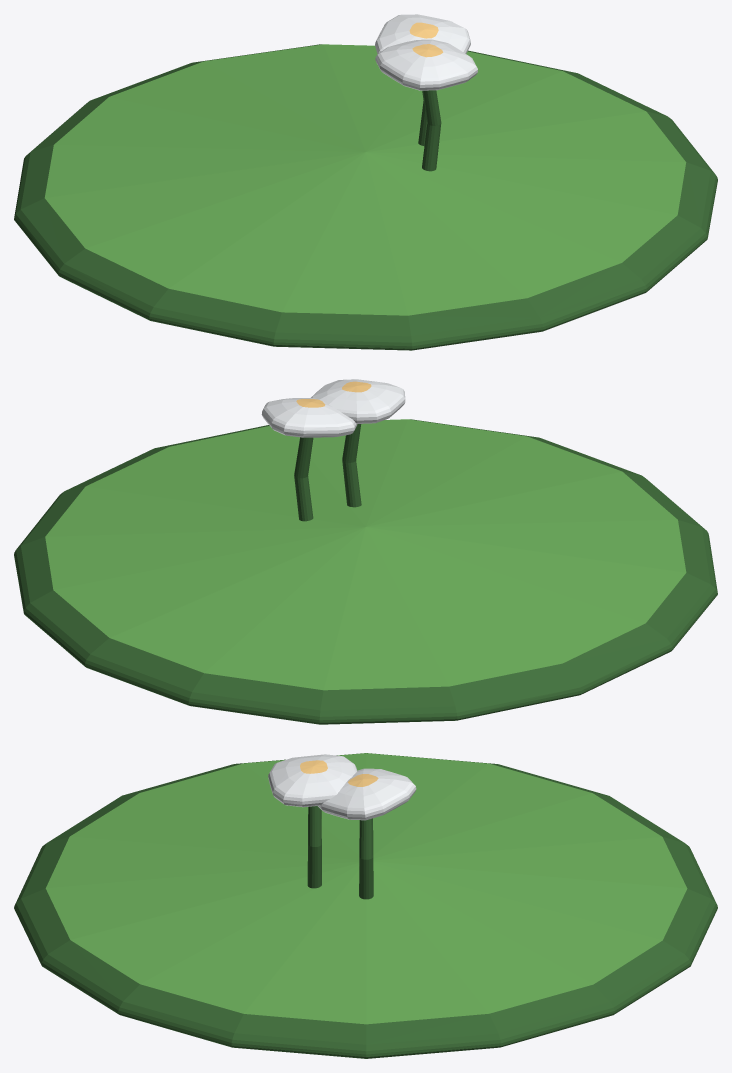
Rendered from FlowerPatchFar.obj.
The picture shows the model from 3 angles, top to bottom: view 1: azimuth 30°, elevation 25°; view 2: azimuth 150°, elevation 25°; view 3: azimuth 270°, elevation 25°; orthographic projection.
Size of the model in its own units: 3.8 by 1.1 by 3.8.
